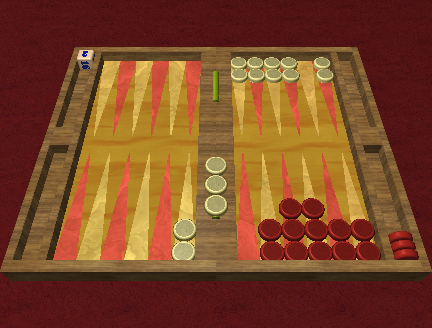checker: (303, 217, 328, 240), (306, 240, 333, 261), (349, 218, 375, 239), (173, 219, 197, 241), (204, 194, 228, 216), (259, 217, 281, 241), (327, 218, 352, 239), (301, 197, 325, 218), (281, 219, 305, 240), (332, 240, 356, 261), (355, 240, 380, 260), (279, 198, 302, 218), (172, 240, 195, 260), (260, 240, 283, 259), (284, 241, 308, 259), (204, 175, 228, 193), (205, 155, 227, 174), (387, 229, 413, 241), (281, 67, 300, 83), (391, 239, 416, 251), (392, 248, 419, 259), (315, 68, 334, 82), (247, 56, 264, 71), (230, 67, 249, 80), (281, 56, 297, 71), (265, 67, 281, 82), (248, 68, 265, 82), (264, 56, 279, 71), (313, 56, 331, 67), (229, 56, 247, 67)
